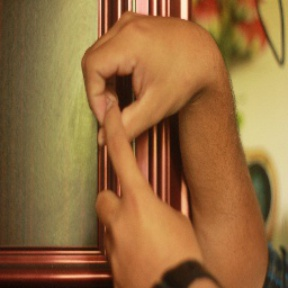Q: (80, 10, 215, 246)
